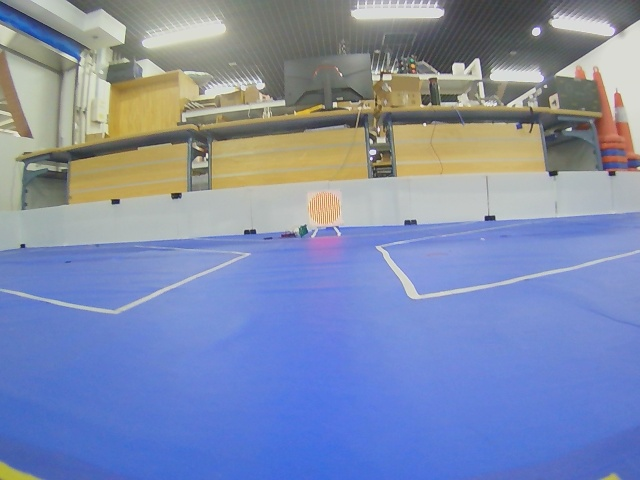red: (308, 191, 342, 227)
